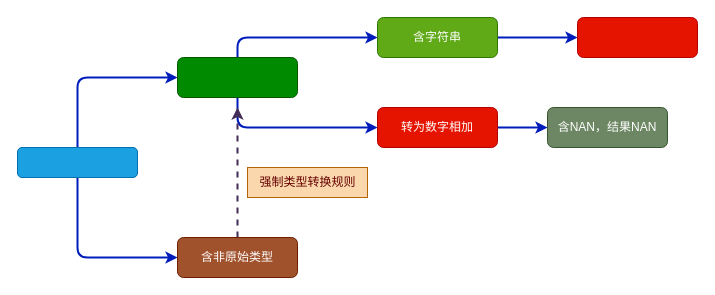
Image size: 715x295. Some labels were removed from this diagram. The shapes that lost their labels are listed below. From the top down, each one's box as (x1, y1, x2, y2) in pixels, then its label:
(576, 16, 698, 58): 转为字符串拼接
(176, 56, 298, 98): 均为原始类型
(16, 146, 138, 178): A + B
